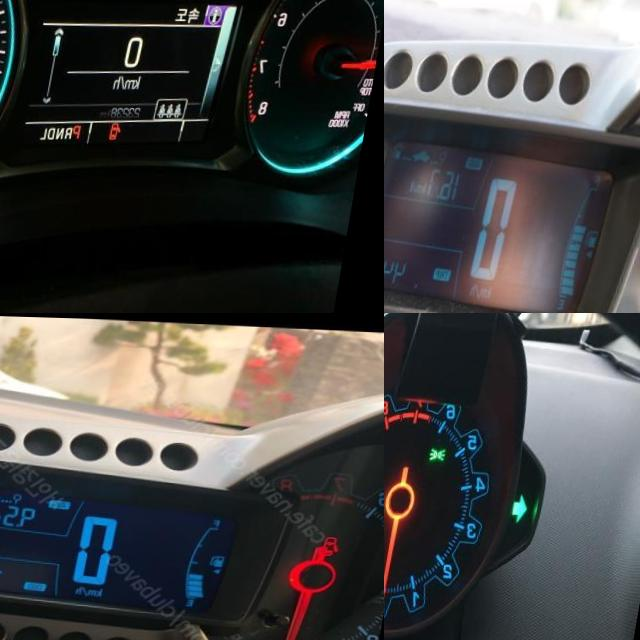Doors: (331, 532, 351, 552), (122, 120, 134, 138)
SideLamp: (440, 443, 459, 459)
